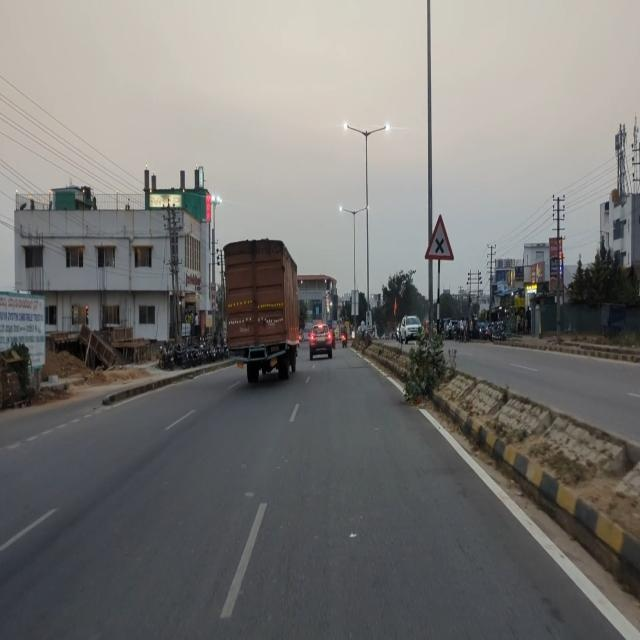bien_nguy_hiem: (424, 212, 454, 262)
